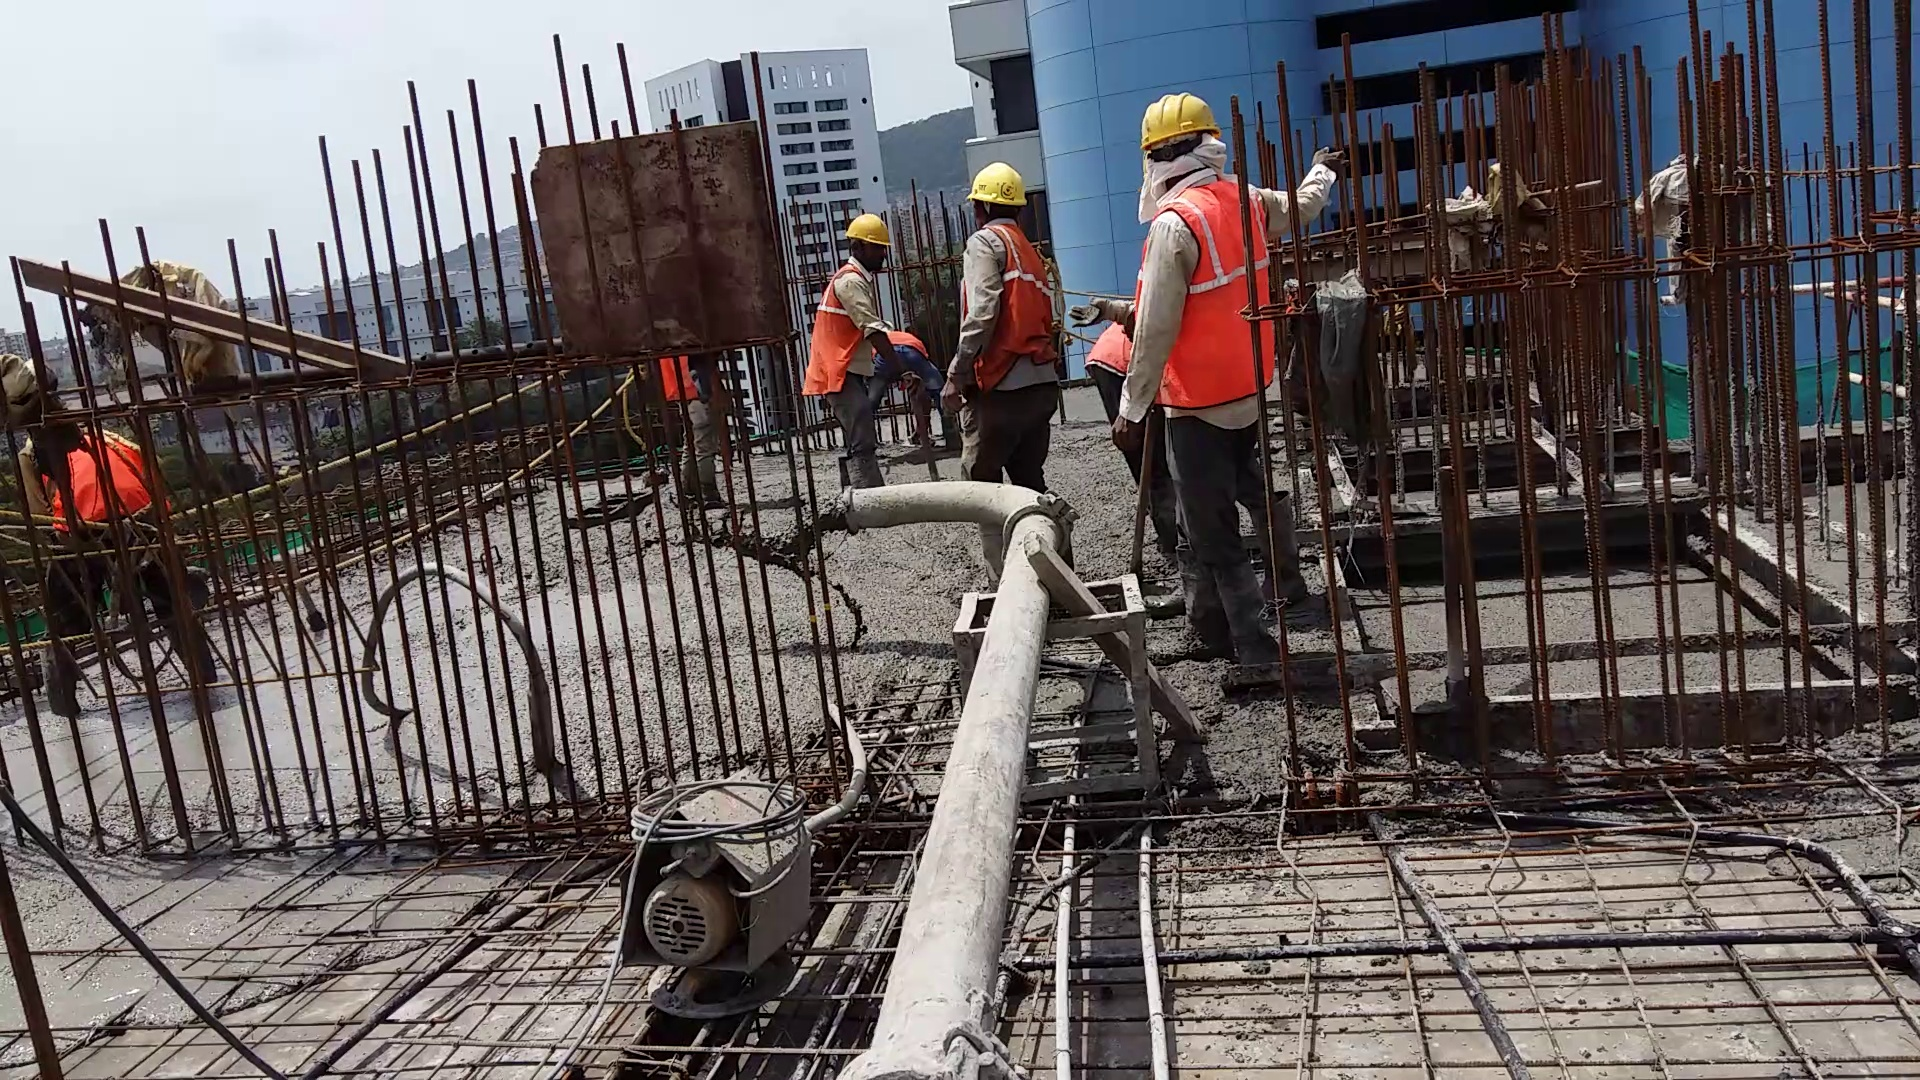SAFE: (1138, 94, 1259, 406), (957, 161, 1065, 384), (814, 208, 898, 396)
